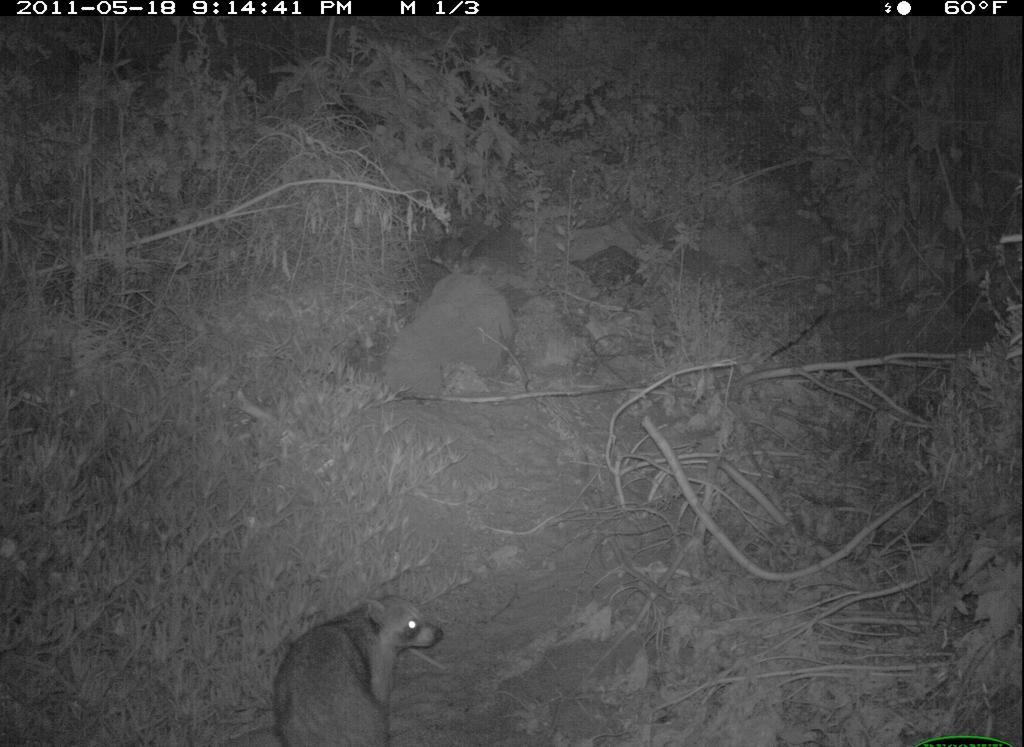raccoon: (227, 592, 450, 747)
